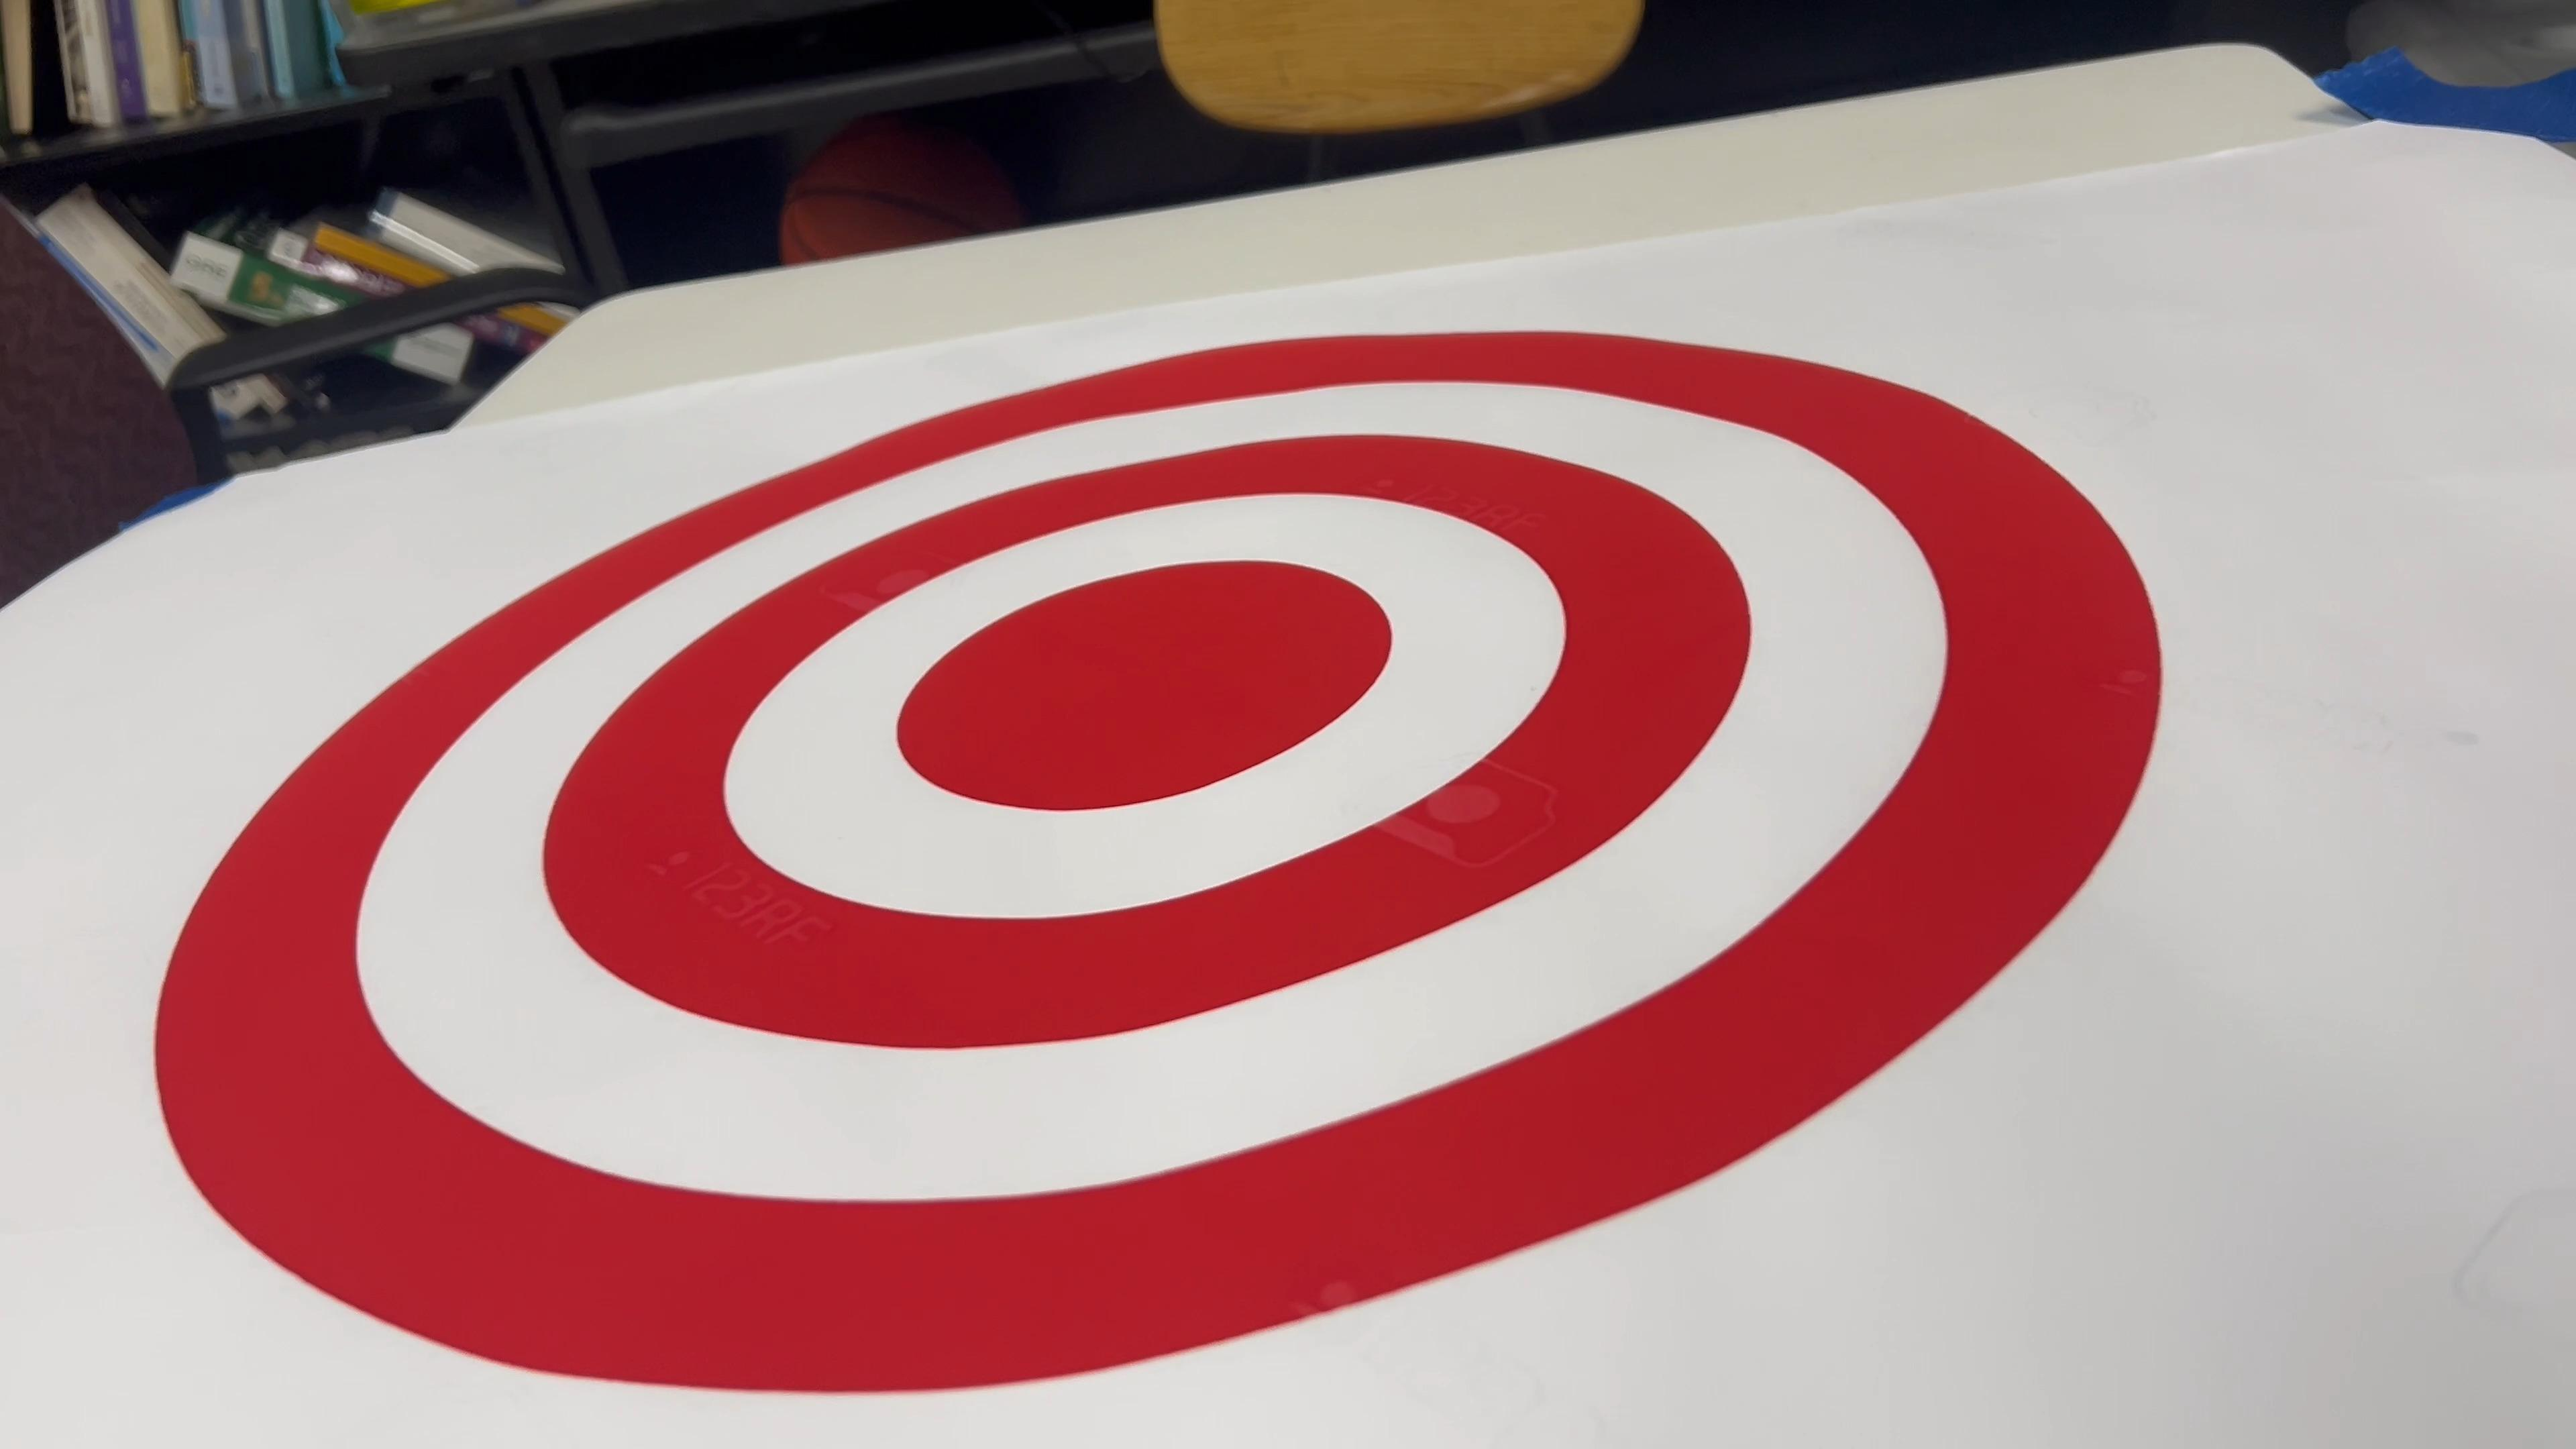target_red: (69, 310, 2181, 1428)
